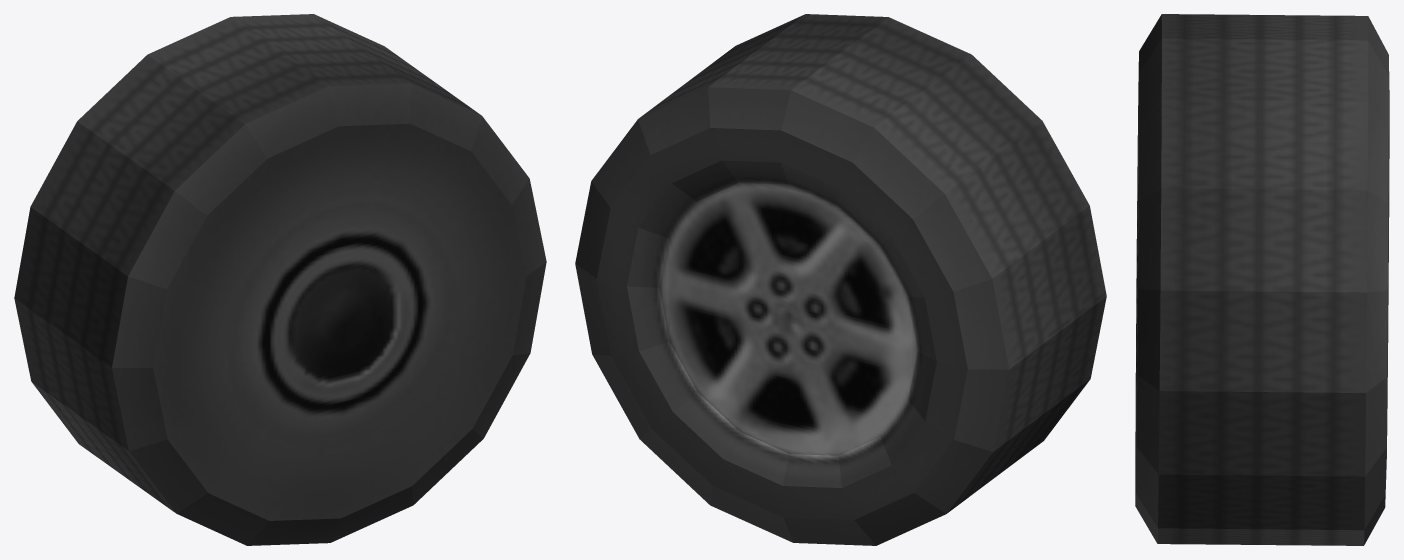
File: wheel.glb
The picture shows the model from 3 angles, left to right: view 1: azimuth 30°, elevation 25°; view 2: azimuth 150°, elevation 25°; view 3: azimuth 270°, elevation 25°; orthographic projection. The views are drawn at different scales.
Visible parts, largest first — view 1: tire; view 2: tire; view 3: tire.
Boxes of the visible parts, box(x1,y1,x2,y2) form: tire: box(14, 14, 546, 545); tire: box(575, 14, 1106, 545); tire: box(1135, 14, 1389, 545).
Size of the model in its own units: 1.51 by 1.51 by 0.7219.
Materials: 1 (1 with a texture image).
